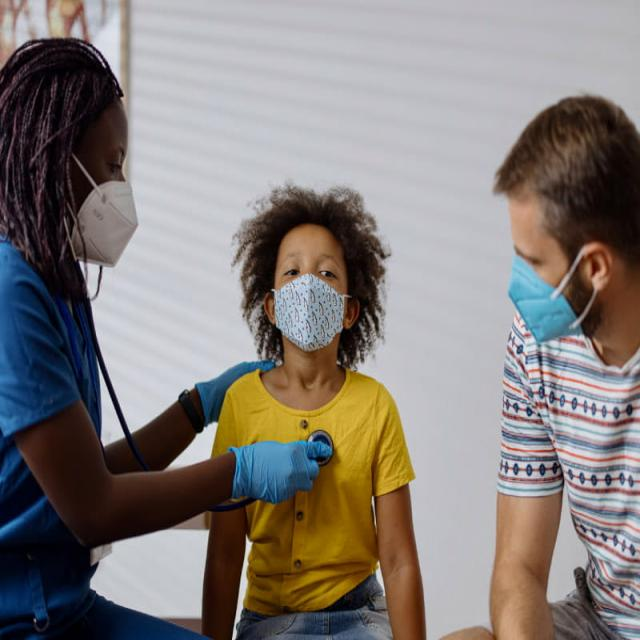adult: (0, 38, 332, 640), (441, 96, 640, 640)
child: (198, 188, 426, 640)
